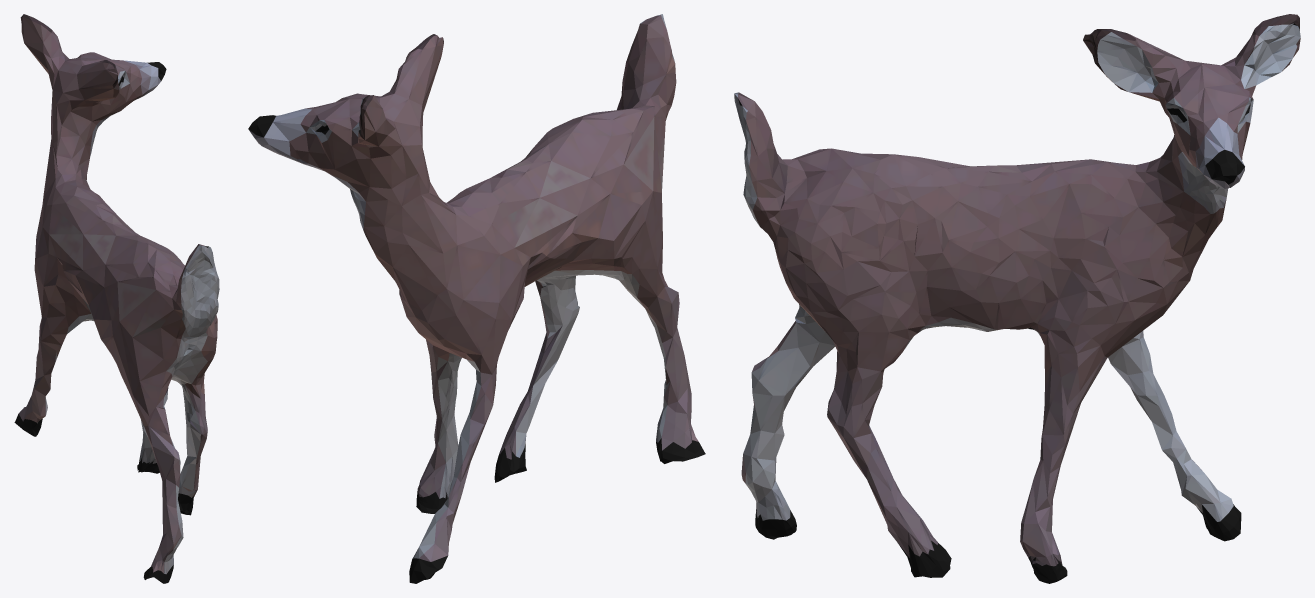
The model's file is Deer.glb.
The picture shows the model from 3 angles, left to right: view 1: azimuth 30°, elevation 25°; view 2: azimuth 150°, elevation 25°; view 3: azimuth 270°, elevation 25°; orthographic projection. The views are drawn at different scales.
Parts seen in each view (by area): view 1: default1; view 2: default1; view 3: default1.
Part boxes in pixels (bbox=[...]): default1: bbox=[14, 14, 219, 583]; default1: bbox=[248, 14, 705, 583]; default1: bbox=[734, 14, 1300, 583].
Size of the model in its own units: 3.67 by 7.61 by 6.98.
1 material, 1 textured.
